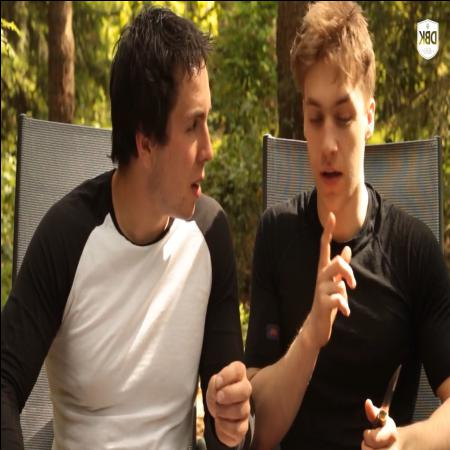long weapon: (358, 346, 407, 450)
